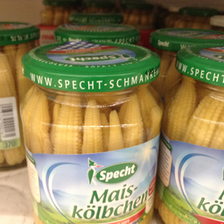corn: (22, 41, 163, 224), (157, 42, 224, 220)
